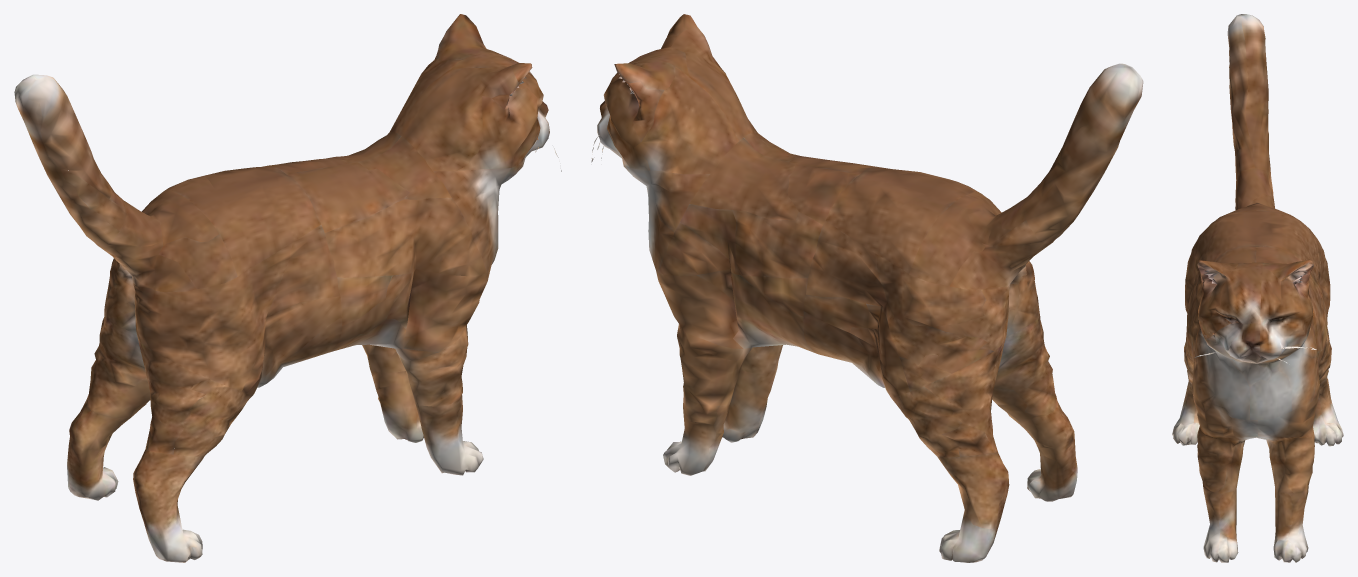
The model's file is HORATIOCAT-lo.glb.
3 views of the same model, side by side, from view 1: azimuth 30°, elevation 25°; view 2: azimuth 150°, elevation 25°; view 3: azimuth 270°, elevation 25° (orthographic). The views are drawn at different scales.
Visible parts, largest first — view 1: tripo_node_87b87f1c-9832-45ab-8487-4e4df2291ddc; view 2: tripo_node_87b87f1c-9832-45ab-8487-4e4df2291ddc; view 3: tripo_node_87b87f1c-9832-45ab-8487-4e4df2291ddc.
Boxes of the visible parts, x1,y1,x2,y2 form: tripo_node_87b87f1c-9832-45ab-8487-4e4df2291ddc: [14, 14, 561, 562]; tripo_node_87b87f1c-9832-45ab-8487-4e4df2291ddc: [591, 14, 1143, 562]; tripo_node_87b87f1c-9832-45ab-8487-4e4df2291ddc: [1172, 14, 1343, 562].
Bounding box in the file's own units: 1.16 × 0.9986 × 0.4055.
1 material, 1 textured.
